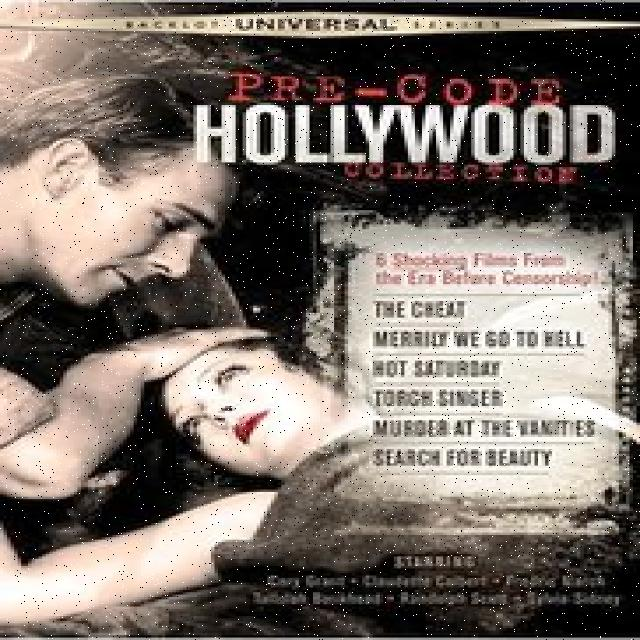movie-judul: (188, 69, 625, 185)
picture: (3, 74, 362, 638)
